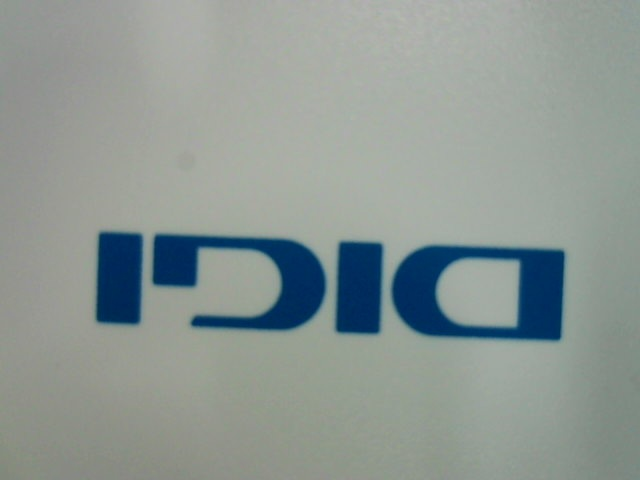BL_DIGI: (82, 215, 570, 344)
